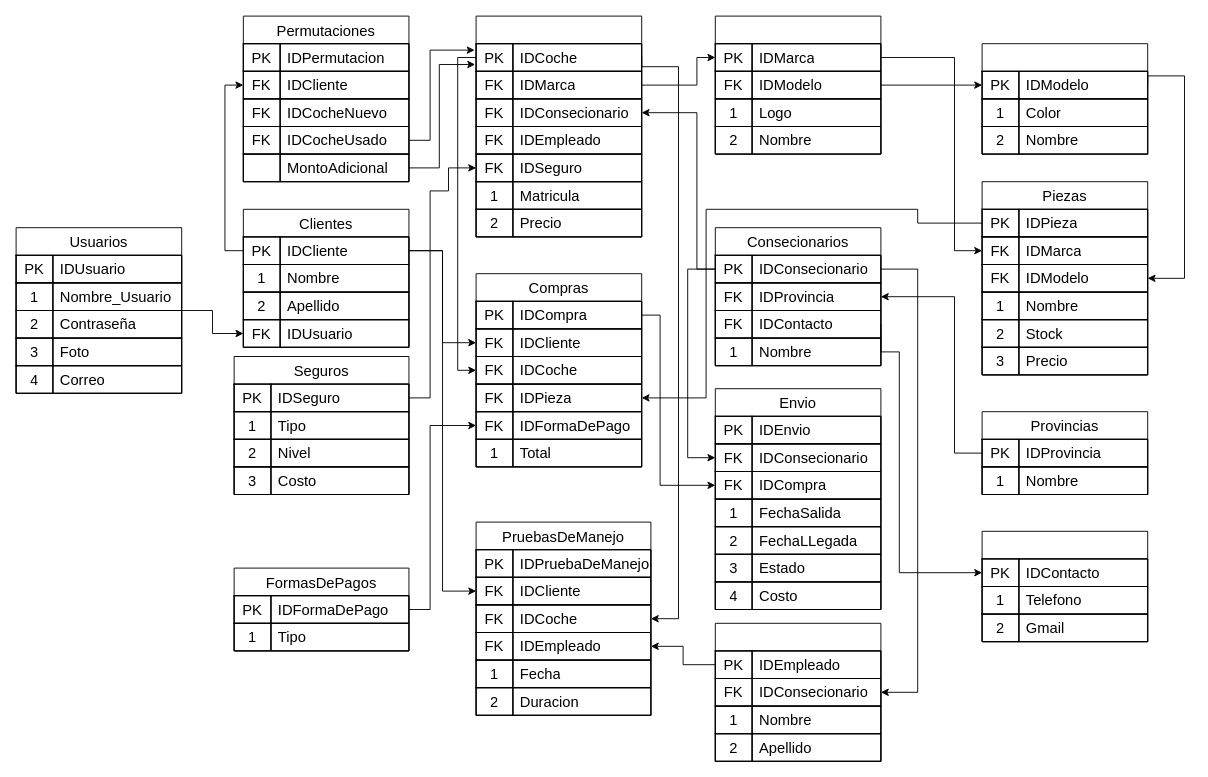
This 1208x777 diagram has some shape labels left out. The box of each missing label's shape, as (x1, y1, x2, y2) in pixels:
Coches: (475, 15, 642, 237)
Contactos: (981, 530, 1148, 642)
Empleados: (714, 622, 881, 761)
Marcas: (714, 15, 881, 154)
Modelos: (981, 43, 1148, 154)
